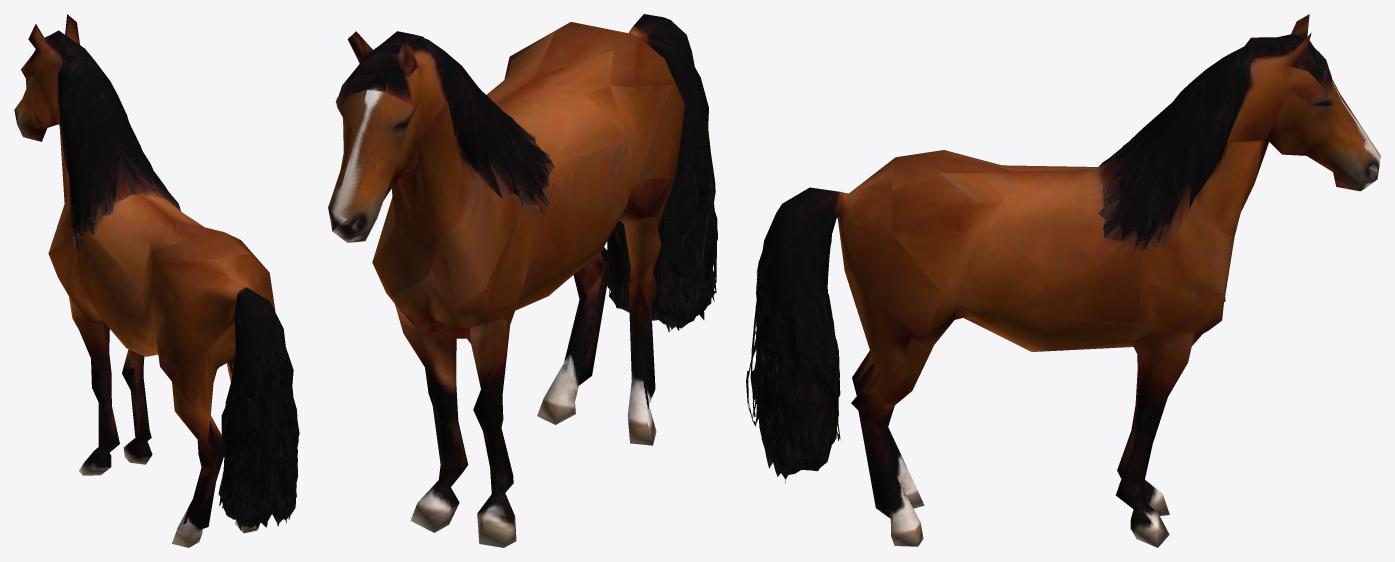
The model's file is cavallo_castagno_lod.gltf.
3 views of the same model, side by side, from view 1: azimuth 30°, elevation 25°; view 2: azimuth 150°, elevation 25°; view 3: azimuth 270°, elevation 25° (orthographic). The views are drawn at different scales.
Visible parts, largest first — view 1: animal; view 2: animal; view 3: animal.
Boxes of the visible parts, x1=… form: animal: x1=14, y1=14, x2=299, y2=547; animal: x1=328, y1=14, x2=717, y2=547; animal: x1=746, y1=14, x2=1380, y2=547.
Bounding box in the file's own units: 0.4766 × 1.62 × 1.85.
1 material, 1 textured.
